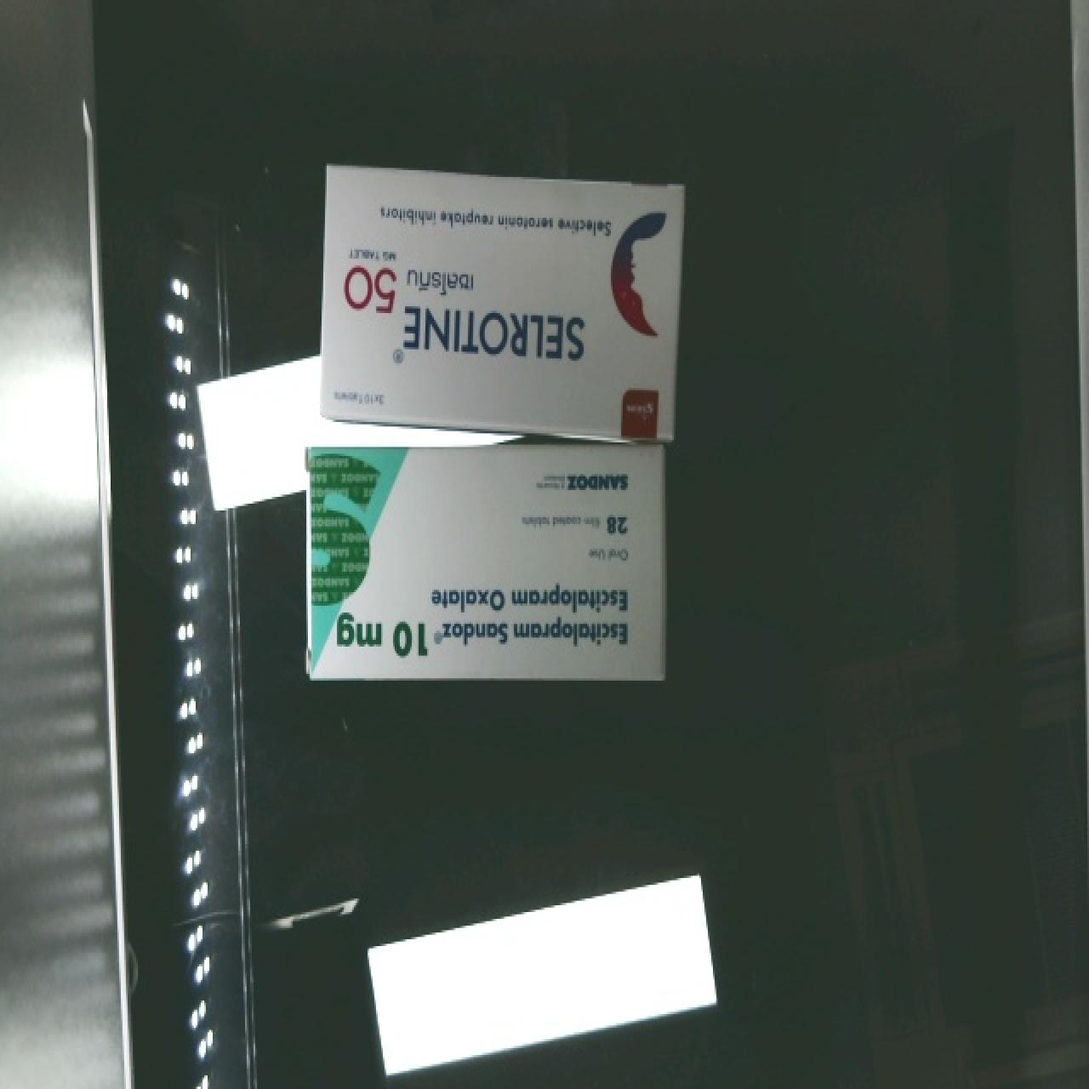medicine_label_obb: (330, 247, 619, 382), (328, 568, 650, 663)
